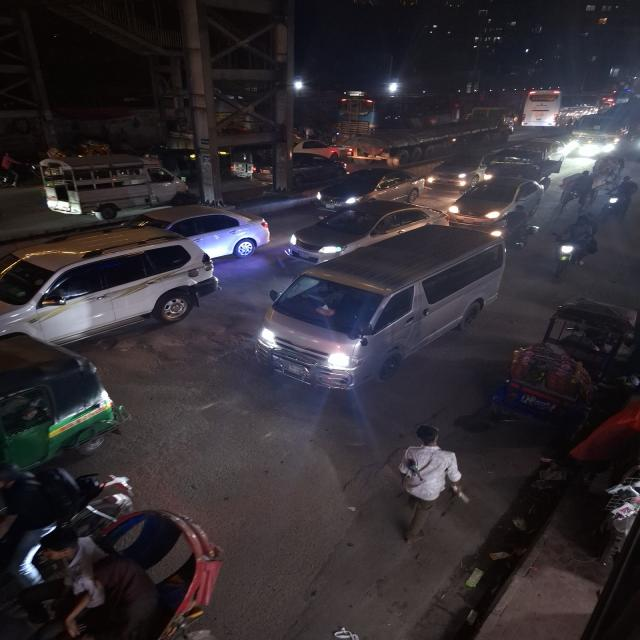bus: (255, 225, 509, 395), (480, 138, 567, 180), (572, 109, 630, 157), (520, 89, 564, 129)
car: (0, 227, 219, 349), (48, 206, 274, 260), (283, 199, 442, 262), (167, 206, 273, 262), (445, 176, 549, 224), (310, 167, 422, 209), (427, 154, 484, 188)
cng: (0, 324, 123, 480), (542, 297, 640, 377)
human_hauler: (39, 151, 179, 220)
motorcycle: (548, 214, 602, 275), (602, 176, 640, 216)
pedestrian: (379, 422, 467, 550)
rickshaw: (0, 498, 246, 640), (492, 338, 630, 430)
